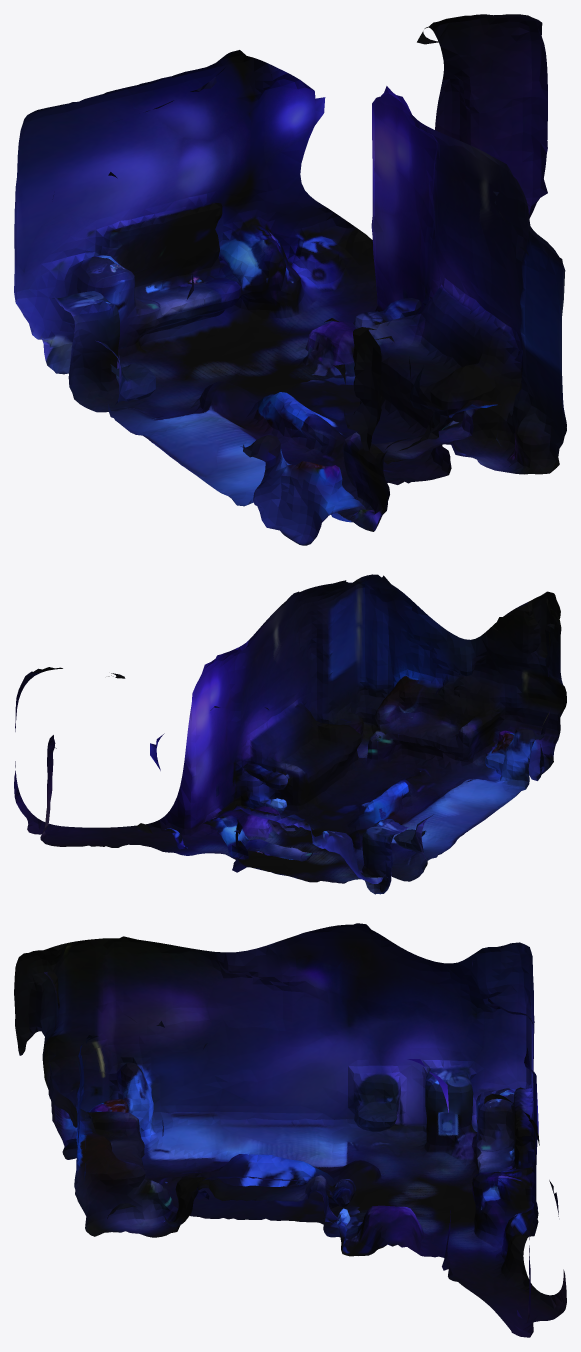
The model's file is dark-room.glb.
3 renders of one model, top to bottom at view 1: azimuth 30°, elevation 25°; view 2: azimuth 150°, elevation 25°; view 3: azimuth 270°, elevation 25°, orthographic. The views are drawn at different scales.
Size of the model in its own units: 5.77 by 2.72 by 6.18.
1 material, 1 textured.
